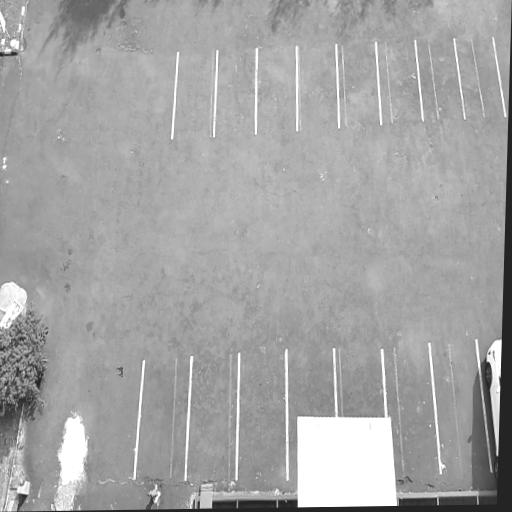Car: (478, 334, 501, 492)
Space Available: (429, 337, 490, 471), (388, 341, 441, 476), (134, 358, 192, 480), (235, 346, 288, 479), (185, 352, 239, 479), (415, 35, 465, 119), (375, 39, 424, 124), (454, 36, 505, 117), (336, 40, 381, 127), (174, 51, 219, 137), (287, 342, 336, 418), (214, 48, 257, 134), (297, 42, 339, 130), (333, 349, 387, 417), (256, 46, 298, 133), (491, 38, 511, 118)
